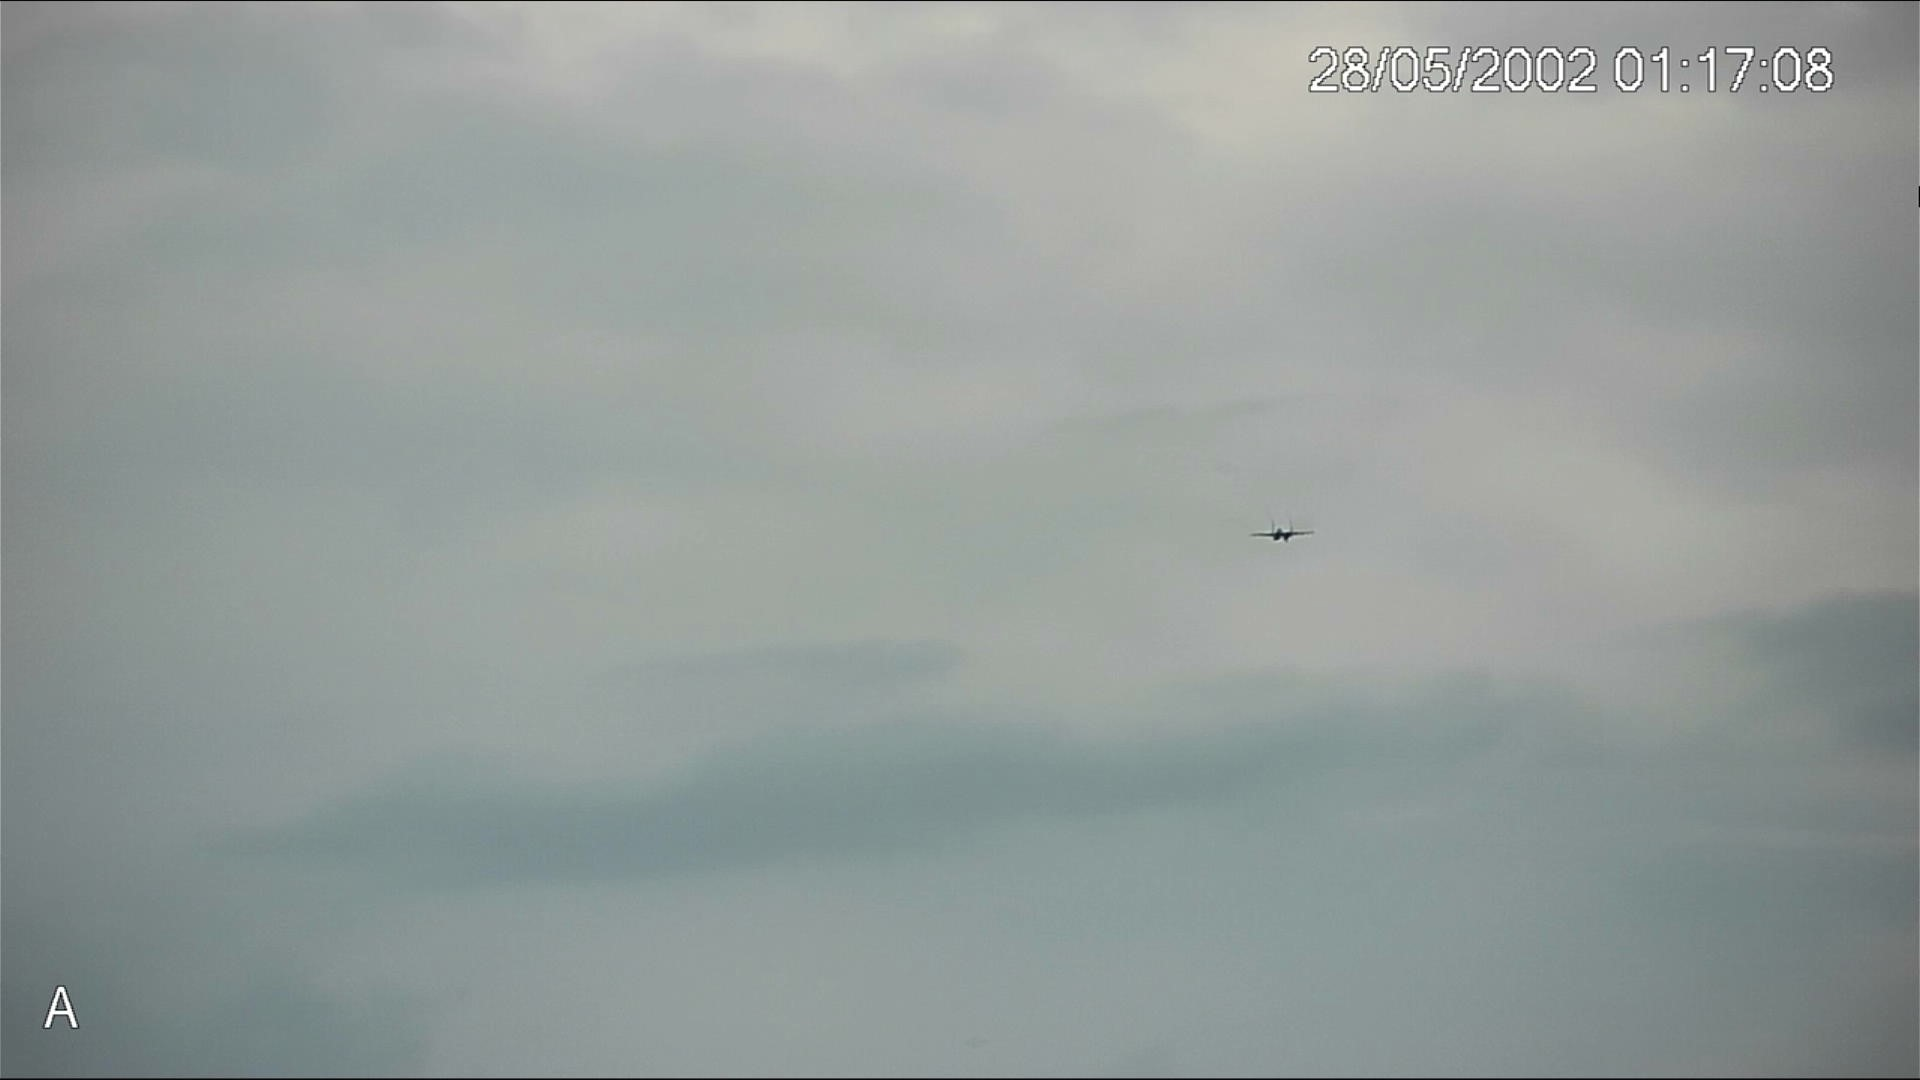SU_30: (1249, 520, 1316, 543)
